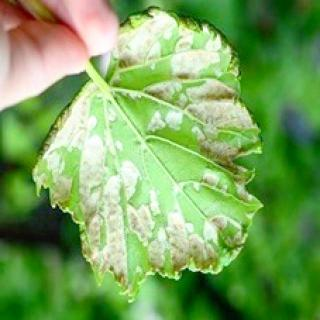grey mildew: (35, 105, 208, 291), (118, 14, 258, 240)
